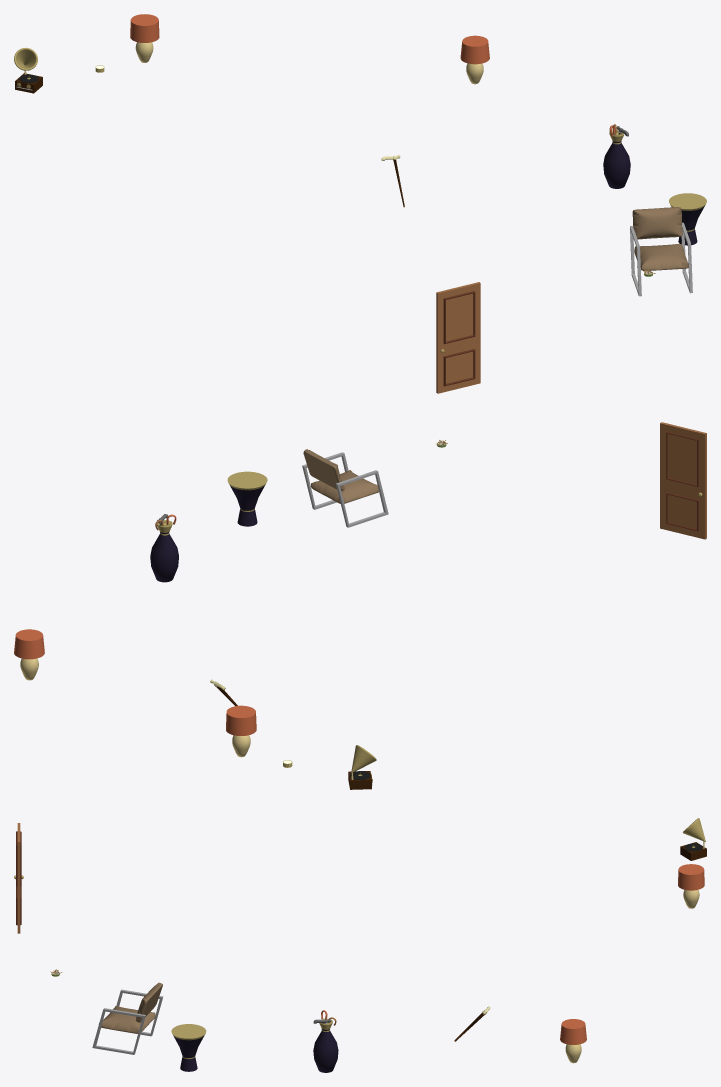
The model's file is LivingRoomMovableObjects.fbx.
The picture shows the model from 3 angles, top to bottom: view 1: azimuth 30°, elevation 25°; view 2: azimuth 150°, elevation 25°; view 3: azimuth 270°, elevation 25°; orthographic projection. The views are drawn at different scales.
Visible parts, largest first — view 1: Door.Bathroom, Cube.488, Vase, Cylinder.119, Cylinder.118, LivingRoom_SideTable, LivingRoom_Record Plater.001; view 2: Door.Bathroom, Cube.488, Vase, LivingRoom_SideTable, Cylinder.119, Cylinder.118, LivingRoom_Record Plater.001; view 3: Cube.488, Vase, LivingRoom_SideTable, Cylinder.119, Cylinder.118, LivingRoom_Record Plater.001, Door.Bathroom.
Boxes of the visible parts, bbox=[...] form: Door.Bathroom: bbox=[436, 282, 480, 393]; Cube.488: bbox=[630, 207, 692, 296]; Vase: bbox=[603, 124, 630, 188]; Cylinder.119: bbox=[130, 14, 159, 62]; Cylinder.118: bbox=[460, 35, 489, 84]; LivingRoom_SideTable: bbox=[669, 193, 706, 245]; LivingRoom_Record Plater.001: bbox=[14, 47, 42, 93]; Door.Bathroom: bbox=[660, 422, 706, 539]; Cube.488: bbox=[302, 449, 388, 527]; Vase: bbox=[150, 514, 178, 582]; LivingRoom_SideTable: bbox=[227, 471, 267, 526]; Cylinder.119: bbox=[226, 705, 256, 757]; Cylinder.118: bbox=[14, 629, 44, 680]; LivingRoom_Record Plater.001: bbox=[348, 745, 376, 789]; Cube.488: bbox=[92, 982, 163, 1054]; Vase: bbox=[313, 1010, 338, 1072]; LivingRoom_SideTable: bbox=[171, 1024, 206, 1071]; Cylinder.119: bbox=[678, 864, 704, 908]; Cylinder.118: bbox=[560, 1019, 586, 1063]; LivingRoom_Record Plater.001: bbox=[680, 818, 706, 860]; Door.Bathroom: bbox=[14, 823, 23, 933].
Bounding box in the file's own units: 874 × 280 × 1385.
